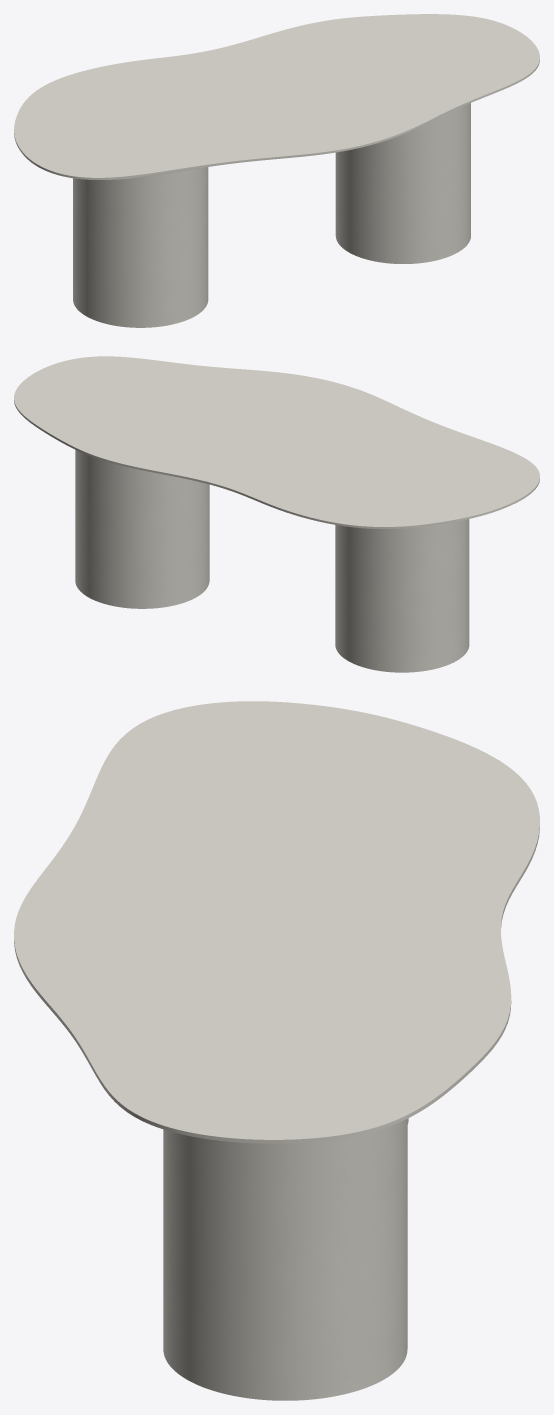
Rendered from pale_toplast_facet_stream.glb.
The picture shows the model from 3 angles, top to bottom: view 1: azimuth 30°, elevation 25°; view 2: azimuth 150°, elevation 25°; view 3: azimuth 270°, elevation 25°; orthographic projection. The views are drawn at different scales.
Visible parts, largest first — view 1: facet_toplast, stream; view 2: facet_toplast, stream; view 3: facet_toplast, stream.
Part boxes in pixels (x1,y1,x2,y2): facet_toplast: (14, 14, 539, 179); stream: (73, 103, 470, 327); facet_toplast: (14, 356, 539, 528); stream: (75, 450, 469, 672); facet_toplast: (14, 701, 539, 1143); stream: (163, 1118, 408, 1400).
Size of the model in its own units: 7.5 by 2.5 by 3.8.
1 material, 1 textured.
